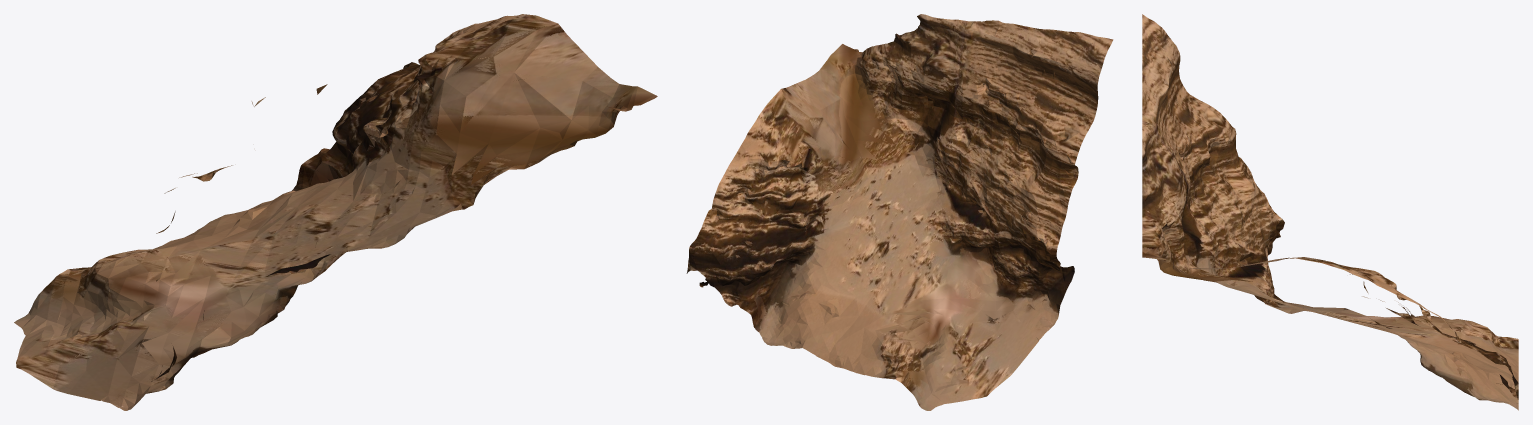
3 renders of one model, left to right at view 1: azimuth 30°, elevation 25°; view 2: azimuth 150°, elevation 25°; view 3: azimuth 270°, elevation 25°, orthographic. The views are drawn at different scales.
Bounding box in the file's own units: 1.04 × 0.9748 × 1.04.
4 materials, 4 textured.
